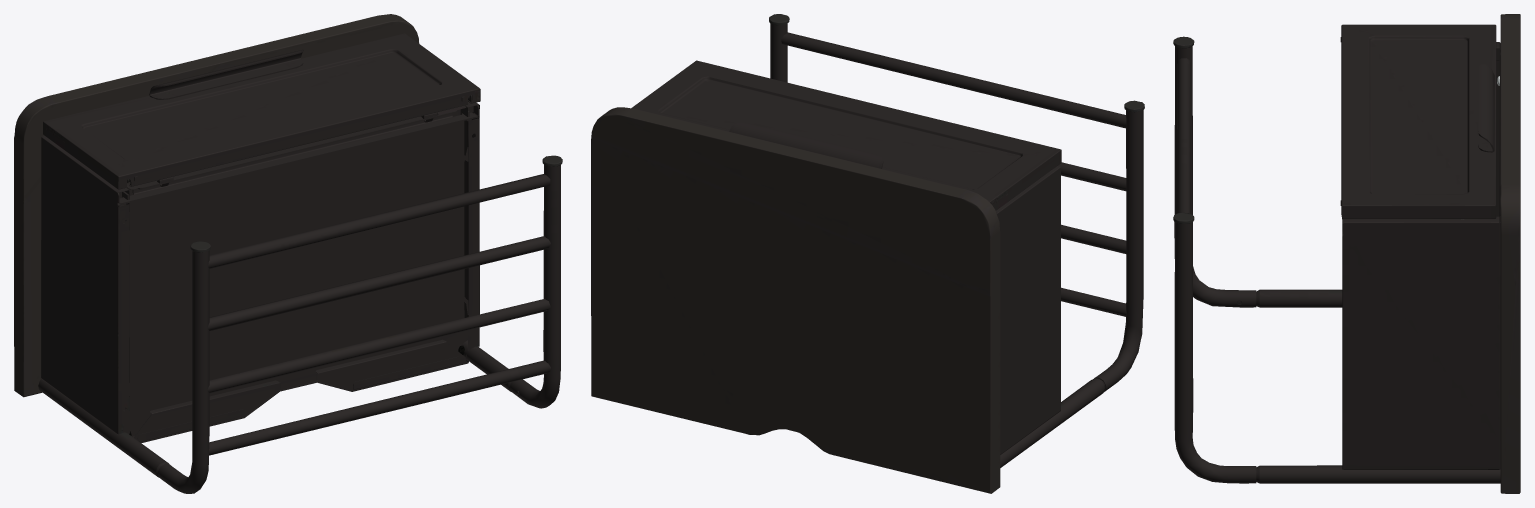
File: grafjaellet_wall_mounted_bedside_table_a.glb
3 views of the same model, side by side, from view 1: azimuth 30°, elevation 25°; view 2: azimuth 150°, elevation 25°; view 3: azimuth 270°, elevation 25° (orthographic). The views are drawn at different scales.
Visible parts, largest first — view 1: ASY_ART_00603114_S01_NV01; view 2: ASY_ART_00603114_S01_NV01; view 3: ASY_ART_00603114_S01_NV01.
Boxes of the visible parts, x1=… form: ASY_ART_00603114_S01_NV01: x1=14, y1=14, x2=562, y2=493; ASY_ART_00603114_S01_NV01: x1=591, y1=14, x2=1144, y2=493; ASY_ART_00603114_S01_NV01: x1=1173, y1=14, x2=1520, y2=493.
Bounding box in the file's own units: 0.42 × 0.2922 × 0.3115.
Materials: 1 (1 with a texture image).
